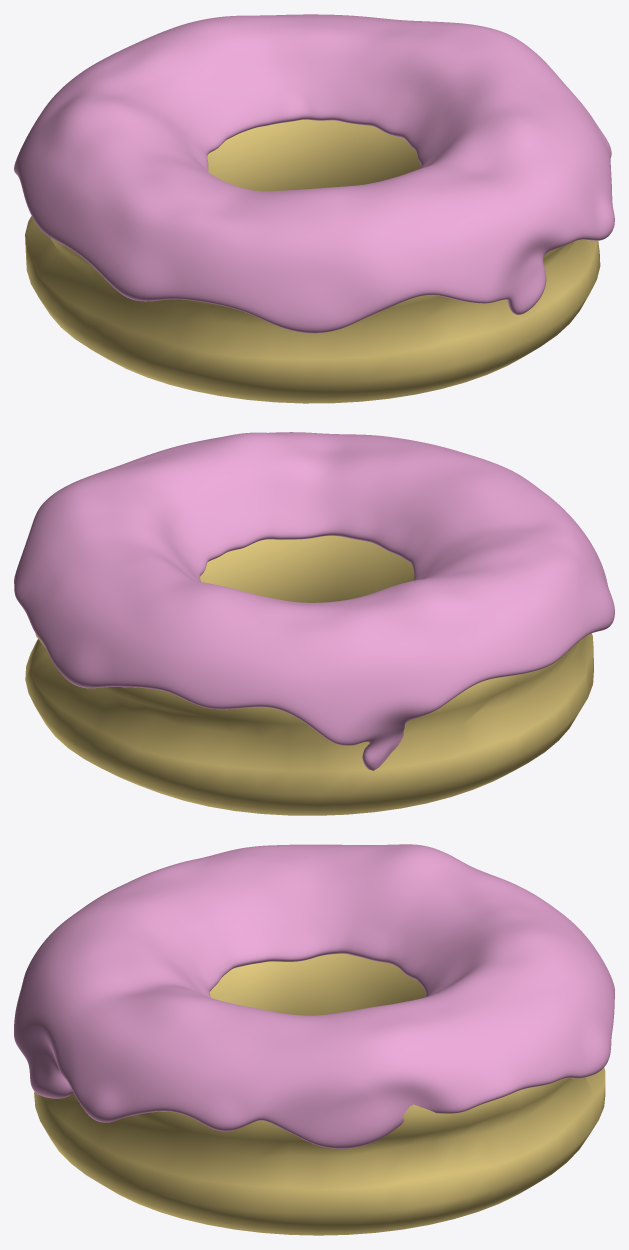
File: donut.gltf
3 views of the same model, one above another, from view 1: azimuth 30°, elevation 25°; view 2: azimuth 150°, elevation 25°; view 3: azimuth 270°, elevation 25° (orthographic).
Parts seen in each view (by area): view 1: Icing, Donut; view 2: Icing, Donut; view 3: Icing, Donut.
Part boxes in pixels (bbox=[...]): Icing: bbox=[14, 14, 614, 333]; Donut: bbox=[25, 119, 600, 403]; Icing: bbox=[14, 432, 614, 770]; Donut: bbox=[25, 536, 593, 815]; Icing: bbox=[14, 844, 614, 1148]; Donut: bbox=[34, 953, 605, 1235].
Bounding box in the file's own units: 0.1445 × 0.0559 × 0.146.
